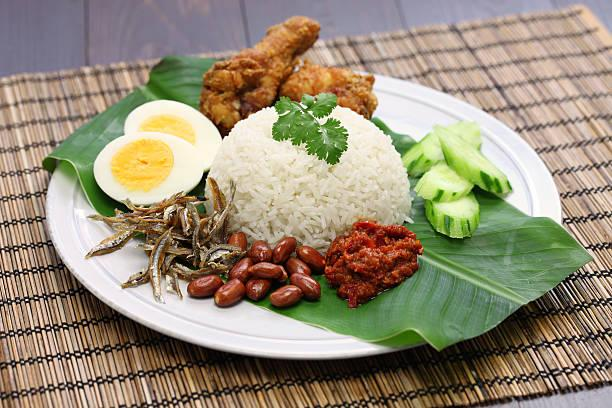Anchovies: (86, 171, 238, 296)
Boiled-Egg: (95, 99, 221, 204)
Cucumber: (402, 122, 512, 238)
Fried-Chicken: (198, 17, 379, 137)
Peanuts: (189, 237, 323, 309)
Rice: (211, 106, 414, 243)
Sambal: (326, 222, 423, 309)
